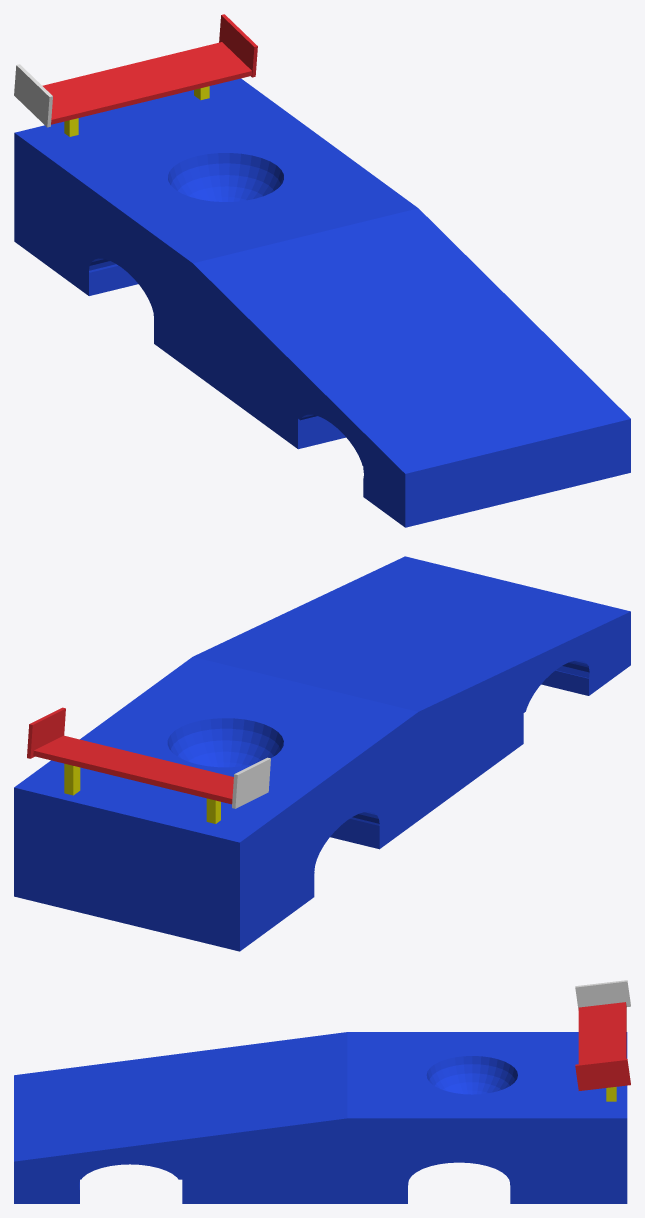
The model's file is racecar.glb.
3 views of the same model, one above another, from view 1: azimuth 30°, elevation 25°; view 2: azimuth 150°, elevation 25°; view 3: azimuth 270°, elevation 25° (orthographic). The views are drawn at different scales.
Visible parts, largest first — view 1: Cube, Cube.003, Cube.004, Cube.007; view 2: Cube, Cube.003, Cube.004, Cube.007; view 3: Cube, Cube.003, Cube.007, Cube.004.
Part boxes in pixels (<box>): Cube: <box>14,78,630,527</box>; Cube.003: <box>42,42,251,124</box>; Cube.004: <box>14,64,52,127</box>; Cube.007: <box>219,14,257,77</box>; Cube: <box>14,556,630,951</box>; Cube.003: <box>33,735,233,804</box>; Cube.004: <box>232,757,270,808</box>; Cube.007: <box>27,707,65,758</box>; Cube: <box>14,1032,627,1203</box>; Cube.003: <box>578,1002,626,1063</box>; Cube.007: <box>575,1058,630,1090</box>; Cube.004: <box>575,980,630,1010</box>.
Size of the model in its own units: 2 by 1.49 by 6.04.
